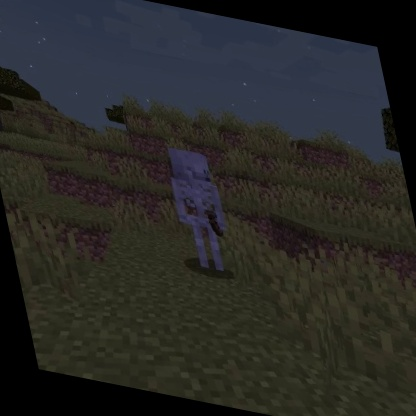skeleton: (158, 141, 244, 279)
